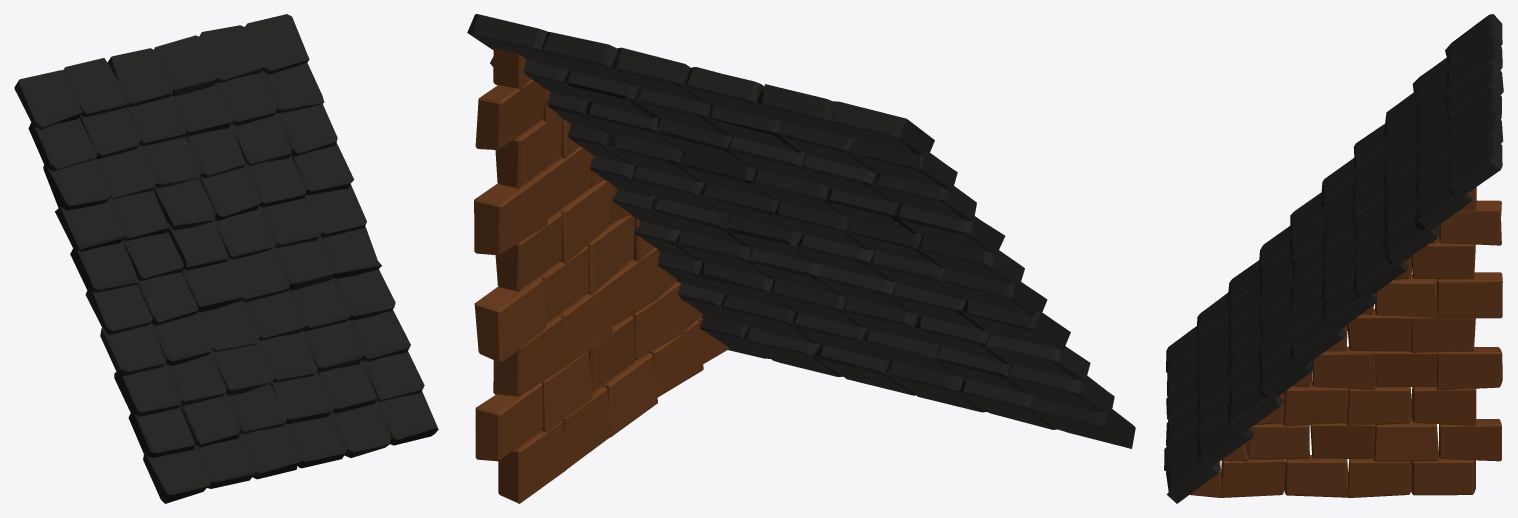
Rendered from BrickWall-RedBrick-Roof-Right.fbx.
3 views of the same model, side by side, from view 1: azimuth 30°, elevation 25°; view 2: azimuth 150°, elevation 25°; view 3: azimuth 270°, elevation 25° (orthographic). The views are drawn at different scales.
Visible parts, largest first — view 1: Cube.007; view 2: Cube.007, Stone Base wall.010; view 3: Cube.007, Stone Base wall.010.
Part boxes in pixels (x1=…): Cube.007: x1=14, y1=14, x2=438, y2=503; Cube.007: x1=467, y1=14, x2=1135, y2=448; Stone Base wall.010: x1=474, y1=48, x2=729, y2=503; Cube.007: x1=1164, y1=14, x2=1503, y2=503; Stone Base wall.010: x1=1189, y1=187, x2=1502, y2=497.
Size of the model in its own units: 883 by 973 by 857.
